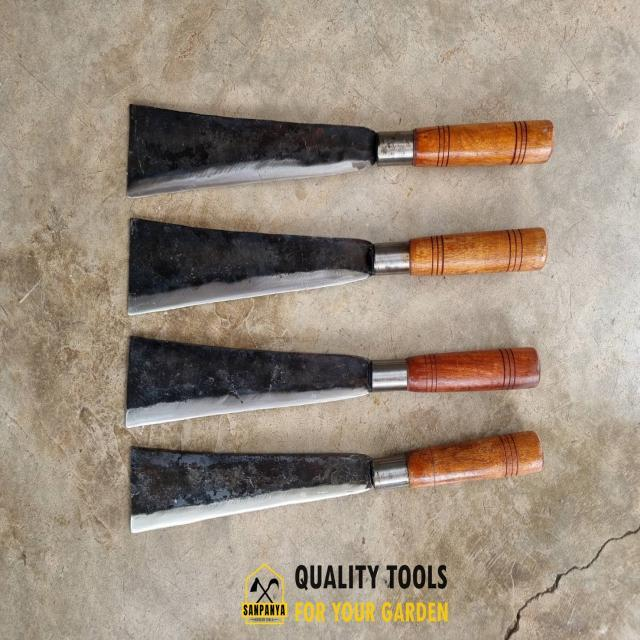eto: (123, 417, 553, 544), (122, 91, 561, 205), (122, 210, 557, 322), (118, 333, 553, 440)
